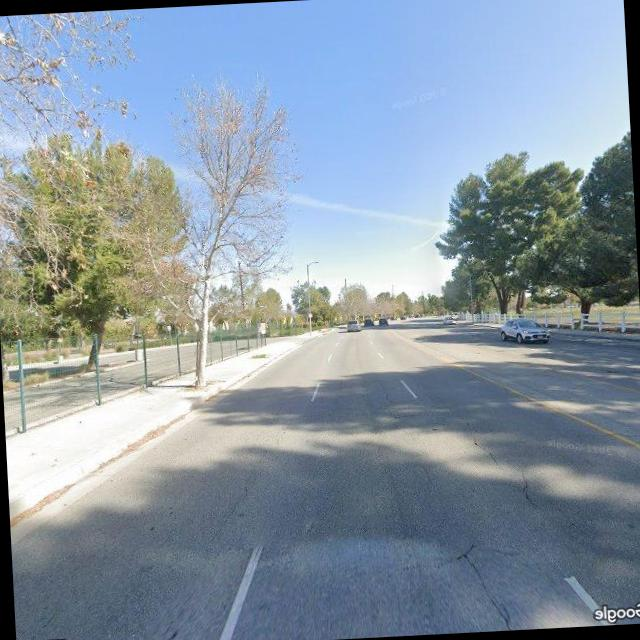pothole: (461, 410, 541, 510), (459, 540, 532, 632), (381, 386, 403, 433)
